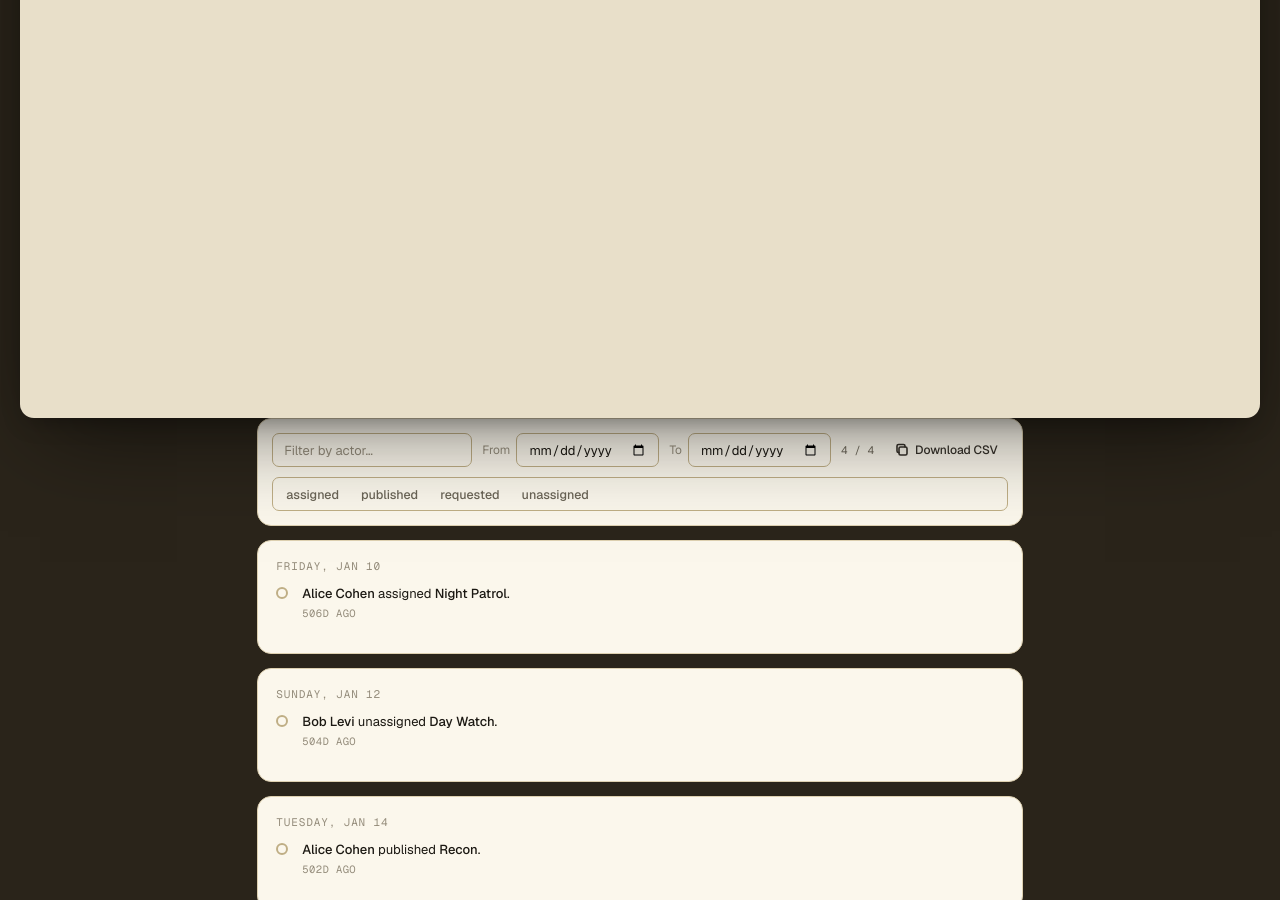
ActivityScreen › filters by date range (inclusive of "to" day)
The image size is (1280, 900).
(page scrolled)
Note: 2025-01-12 .. 2025-01-14 inclusive → BOB_UNASSIGN + ALICE_PUBLISH.
Type "2025-01-12" into the date field named "From date" at (588, 450), box [516,433,659,467]
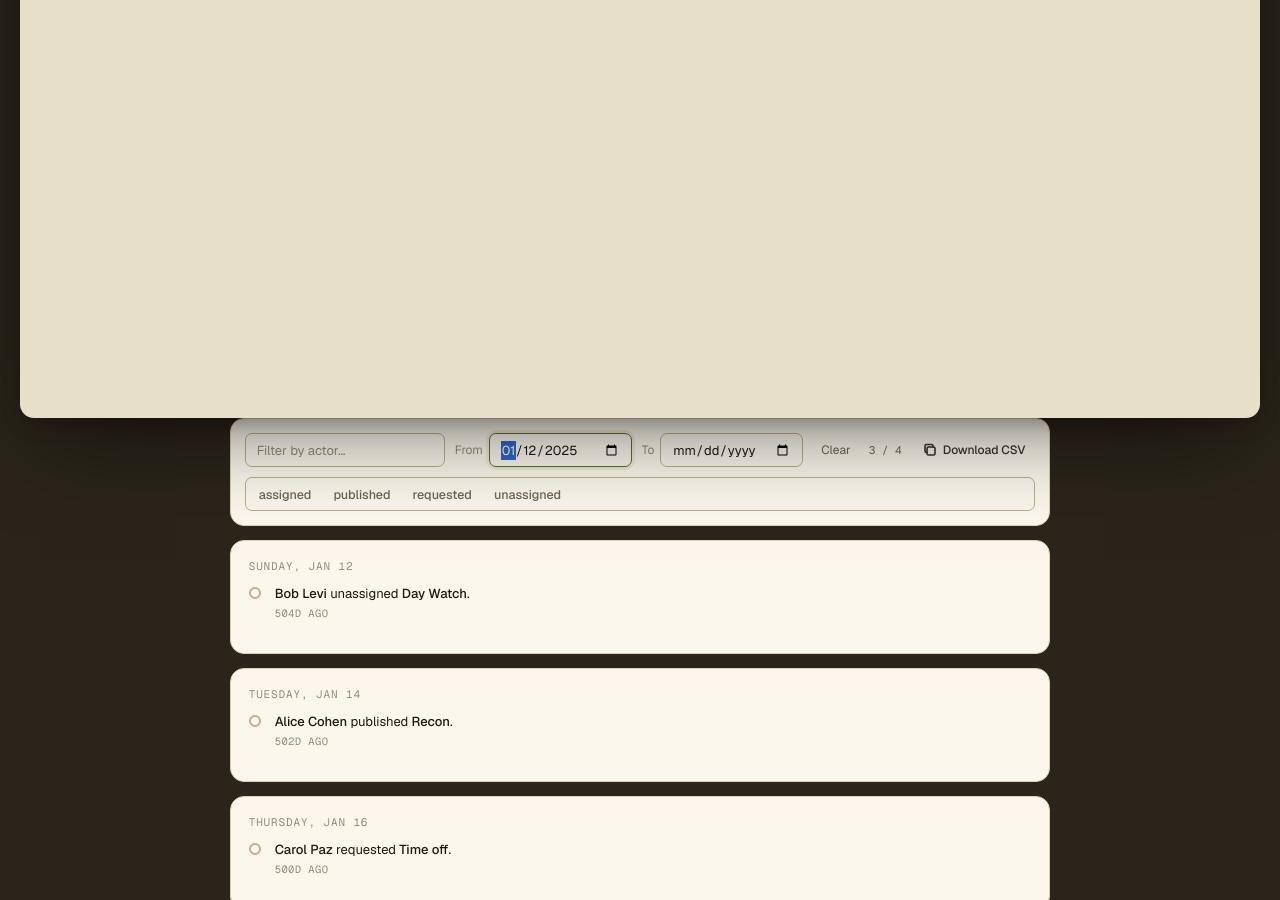
Type "2025-01-14" into the date field named "To date" at (732, 450), box [660,433,803,467]
(page scrolled)
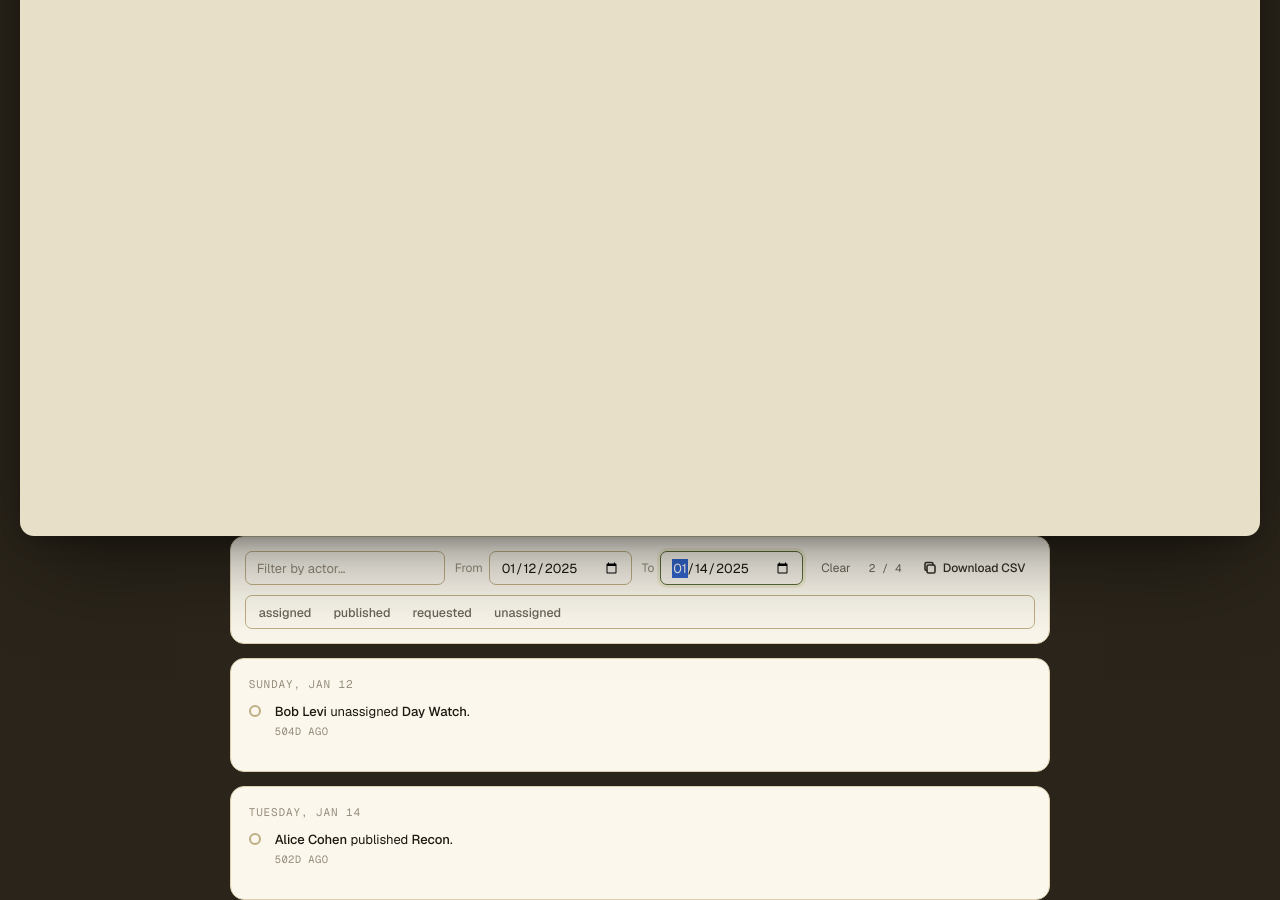
Expected: the text "Bob Levi" is shown, [275,703,327,720]
Now the text "Carol Paz" is gone
Now the text "2 / 4" is shown, box [869,561,902,575]
